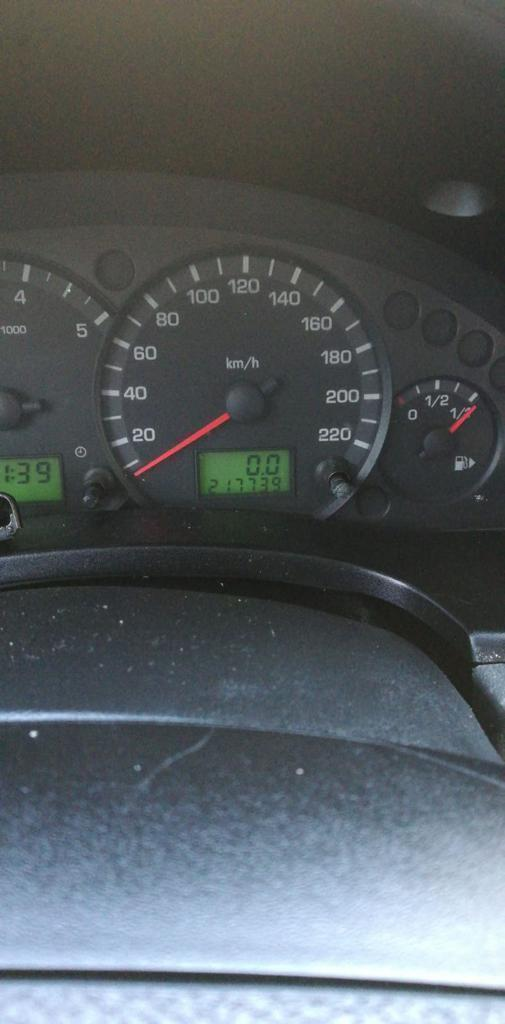,: (260, 471, 264, 476)
0: (265, 454, 279, 474), (246, 454, 259, 475)
1: (226, 479, 231, 492)
2: (207, 479, 218, 493)
3: (259, 477, 268, 492)
7: (247, 477, 255, 491), (235, 478, 242, 492)
9: (271, 476, 280, 491)
odometer: (196, 446, 293, 498)
